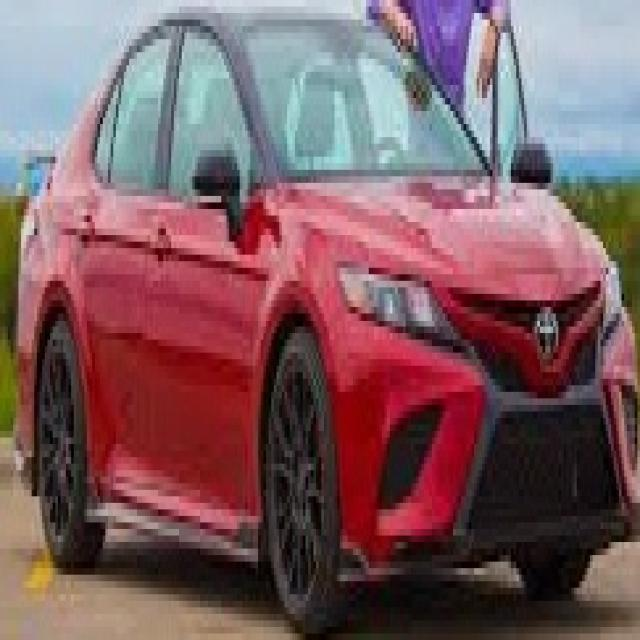red: (15, 0, 640, 612)
